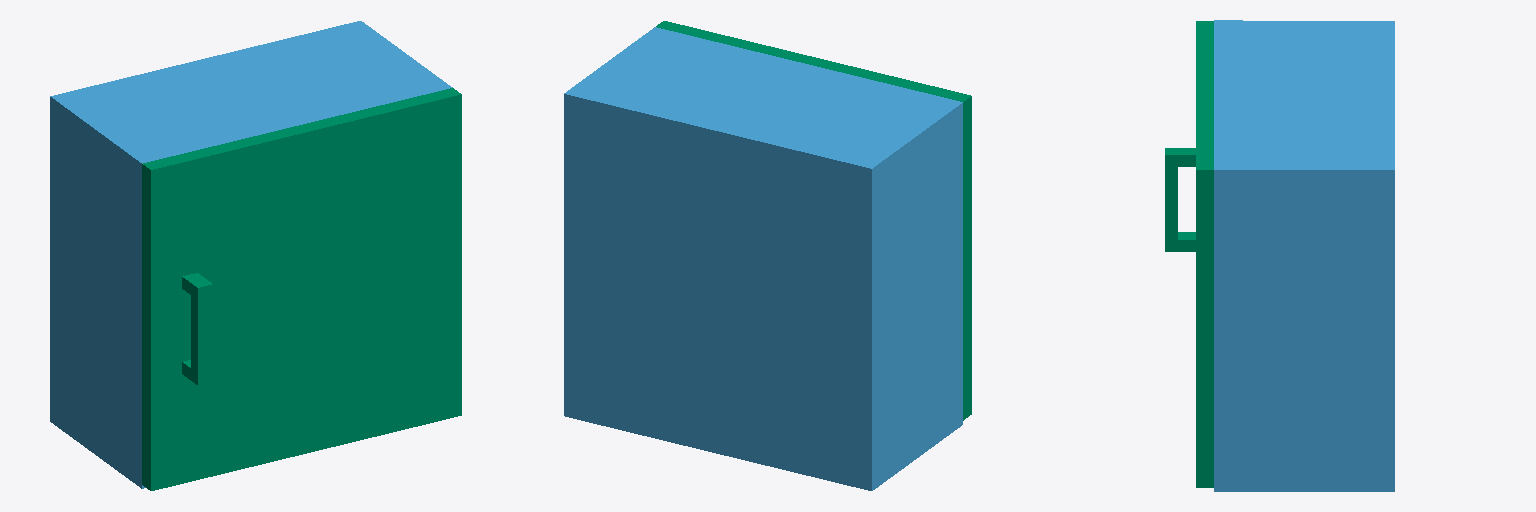
robot.urdf — cabinet:
<robot name="cabinet">
    <link name="world"/>

    <joint name="fixed" type="fixed">
        <parent link="world"/>
        <child link="base_link"/>
        <origin xyz="0 0 0"/>
    </joint>

    <link name="base_link">
        <inertial>
            <origin rpy="0 0 0" xyz="0 0 0"/>
            <mass value="1.0"/>
            <inertia ixx="1.0" ixy="0" ixz="0" iyy="1.0" iyz="0" izz="1.0"/>
        </inertial>
        <visual>
            <origin rpy="0 0 0" xyz="0 0 0"/>
            <geometry>
                <mesh filename="cabinet/base_link.obj" scale="1 1 1" />
            </geometry>
        </visual>
        <collision>
            <origin rpy="0 0 0" xyz="0 0 0"/>
            <geometry>
                <mesh filename="cabinet/base_link_vhacd.obj" scale="1 1 1" />
            </geometry>
        </collision>
    </link>

    <link name="door">
        <inertial>
            <origin rpy="0 0 0" xyz="-0.2 -0.01 0"/>
            <mass value="1.0"/>
            <inertia ixx="0.02667" ixy="0" ixz="0" iyy="0.01337" iyz="0" izz="0.01337"/>
        </inertial>
        <visual>
            <origin rpy="0 0 0" xyz="-0.2 -0.01 0"/>
            <geometry>
                <mesh filename="cabinet/door.obj" scale="1 1 1" />
            </geometry>
        </visual>
        <collision>
            <origin rpy="0 0 0" xyz="-0.2 -0.01 0"/>
            <geometry>
                <mesh filename="cabinet/door_vhacd.obj" scale="1 1 1" />
            </geometry>
        </collision>
    </link>

    <joint name="joint_base_link_door" type="revolute">
        <parent link="base_link"/>
        <child link="door"/>
        <dynamics damping="1.0" friction="0.0001"/>
        <limit lower="0.0" upper="3.14159"/>
        <origin xyz="0.2 -0.205 0.2"/>
        <axis xyz="0 0 1"/>
    </joint>
</robot>

--- Render facts (derived) ---
3 views of the same robot in one strip: view 1: azimuth 30°, elevation 25°; view 2: azimuth 150°, elevation 25°; view 3: azimuth 270°, elevation 25° (orthographic).
Model cabinet with 3 links and 2 joints (1 revolute, 1 fixed), rooted at world, posed every joint at zero.
Visible links, largest first — view 1: door, base_link; view 2: base_link, door; view 3: base_link, door.
Link boxes in pixels (left/top/right/bottom): door: left=142, top=88, right=461, bottom=490; base_link: left=50, top=21, right=452, bottom=488; base_link: left=564, top=27, right=962, bottom=490; door: left=656, top=21, right=971, bottom=420; base_link: left=1214, top=20, right=1394, bottom=491; door: left=1165, top=21, right=1213, bottom=487.
Bounding box of the posed robot: 0.4002 × 0.26 × 0.4 m (x, y, z).
Meshes: 2 distinct files referenced, 2 mesh visuals loaded (2 OBJ).